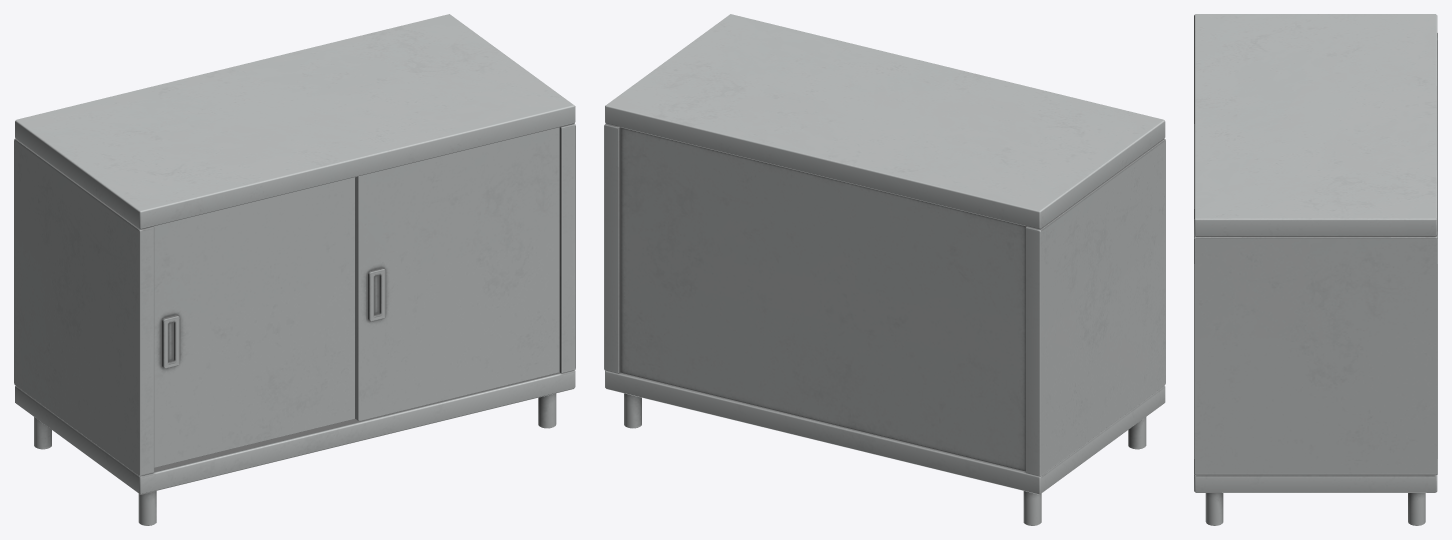
Rendered from CabinetSteel_01 1.FBX.
3 renders of one model, left to right at view 1: azimuth 30°, elevation 25°; view 2: azimuth 150°, elevation 25°; view 3: azimuth 270°, elevation 25°, orthographic. The views are drawn at different scales.
Parts seen in each view (by area): view 1: CabinetSteel_01; view 2: CabinetSteel_01; view 3: CabinetSteel_01.
Part boxes in pixels (x1,y1,x2,y2): CabinetSteel_01: (14,14,575,525); CabinetSteel_01: (604,14,1165,525); CabinetSteel_01: (1194,14,1437,525).
Size of the model in its own units: 120 by 85 by 60.13.
Materials: 1 (1 with a texture image).
